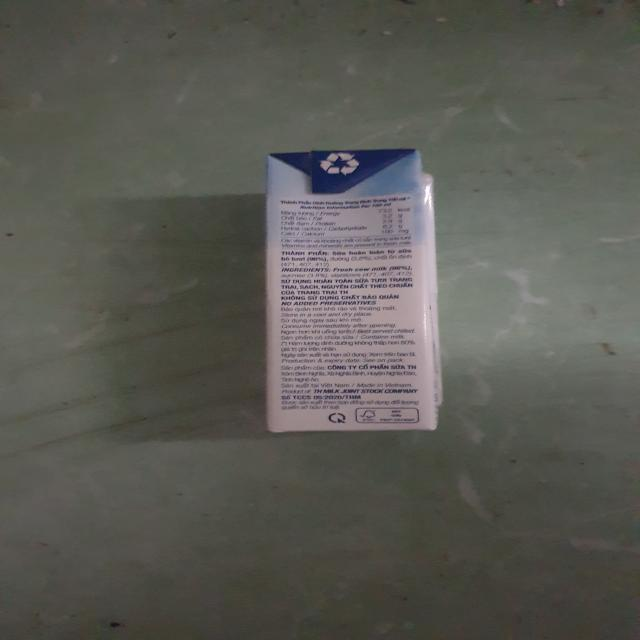TH: (266, 147, 441, 434)
